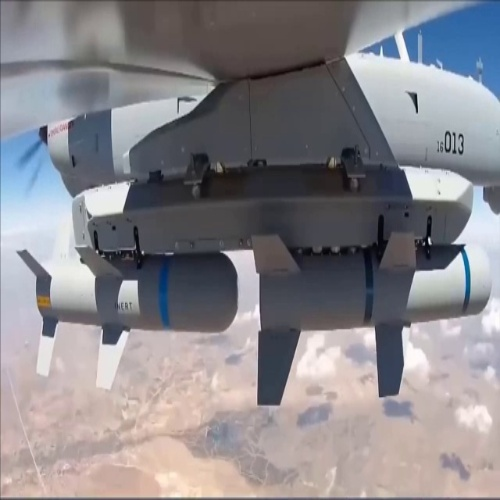uav815: (1, 1, 499, 408)
